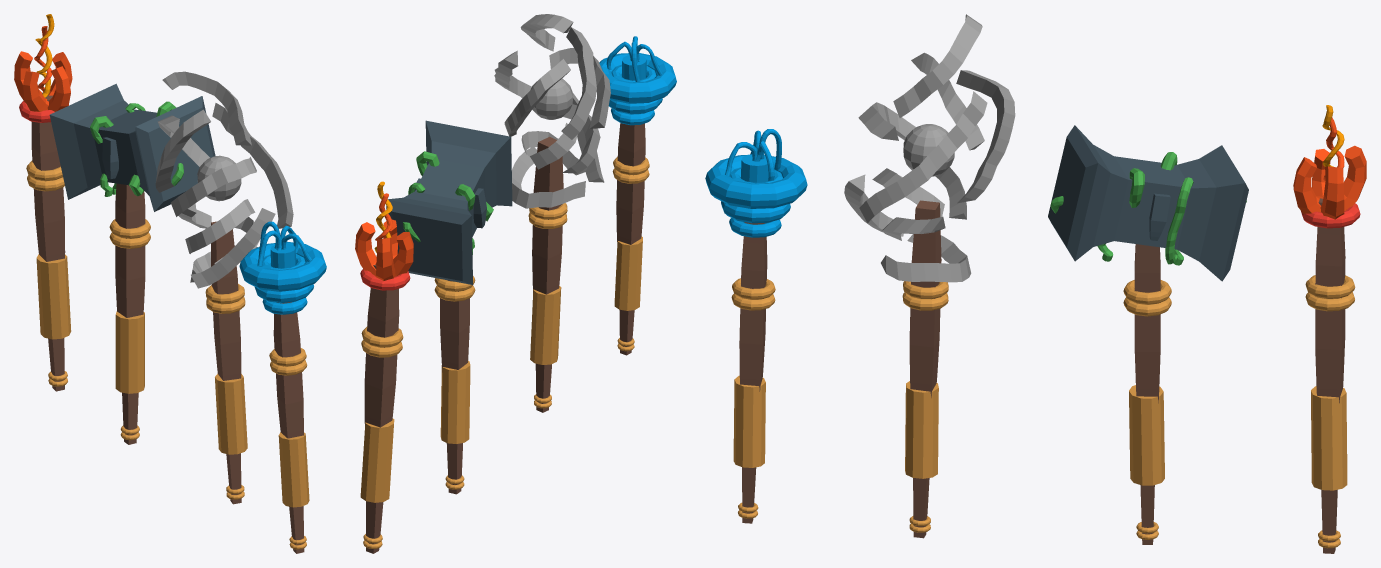
Rendered from elemental-weapons-by-gustavo-amaral-1RfIYI_FDsM.glb.
The picture shows the model from 3 angles, left to right: view 1: azimuth 30°, elevation 25°; view 2: azimuth 150°, elevation 25°; view 3: azimuth 270°, elevation 25°; orthographic projection. The views are drawn at different scales.
Parts seen in each view (by area): view 1: group1456487173, group1883242153, group528185705, group2141913461, group1753137898, group892065387, group30751344, group488425075, group1702923582; view 2: group1456487173, group2141913461, group528185705, group1883242153, group1753137898, group892065387, group30751344, group1702923582; view 3: group1456487173, group2141913461, group528185705, group1883242153, group1753137898, group892065387, group1266117662.
Part boxes in pixels (x1,y1,x2,y2): group1456487173: (155, 71, 293, 504); group1883242153: (239, 221, 326, 553); group528185705: (14, 14, 72, 391); group2141913461: (49, 83, 215, 211); group1753137898: (115, 183, 145, 444); group892065387: (115, 311, 144, 393); group30751344: (102, 137, 118, 178); group488425075: (109, 219, 150, 238); group1702923582: (109, 232, 150, 248); group1456487173: (494, 14, 610, 412); group2141913461: (386, 120, 512, 284); group528185705: (355, 181, 413, 553); group1883242153: (599, 36, 676, 355); group1753137898: (440, 280, 469, 494); group892065387: (440, 361, 470, 443); group30751344: (473, 188, 486, 228); group1702923582: (434, 285, 475, 301); group1456487173: (844, 14, 1015, 538); group2141913461: (1048, 125, 1248, 281); group528185705: (1293, 105, 1366, 553); group1883242153: (705, 129, 807, 523); group1753137898: (1134, 244, 1160, 544); group892065387: (1129, 385, 1164, 485); group1266117662: (1165, 177, 1193, 264).
Bounding box in the file's own units: 0.4858 × 1.75 × 2.05.
